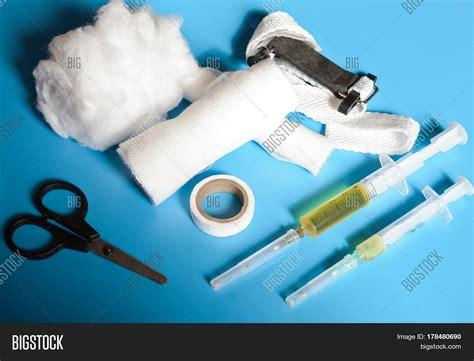bandage: (119, 57, 300, 207), (248, 17, 415, 155), (182, 67, 329, 169)
cotton: (33, 2, 199, 153)
scissors: (2, 177, 169, 285)
